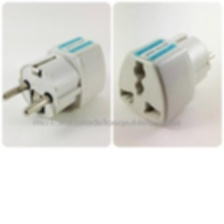three_eye_plug: (114, 25, 218, 129), (0, 33, 107, 127)
